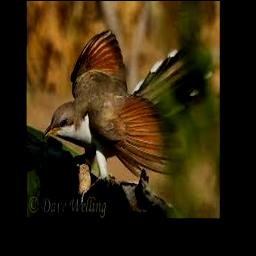Cuckoo: (42, 29, 211, 179)
